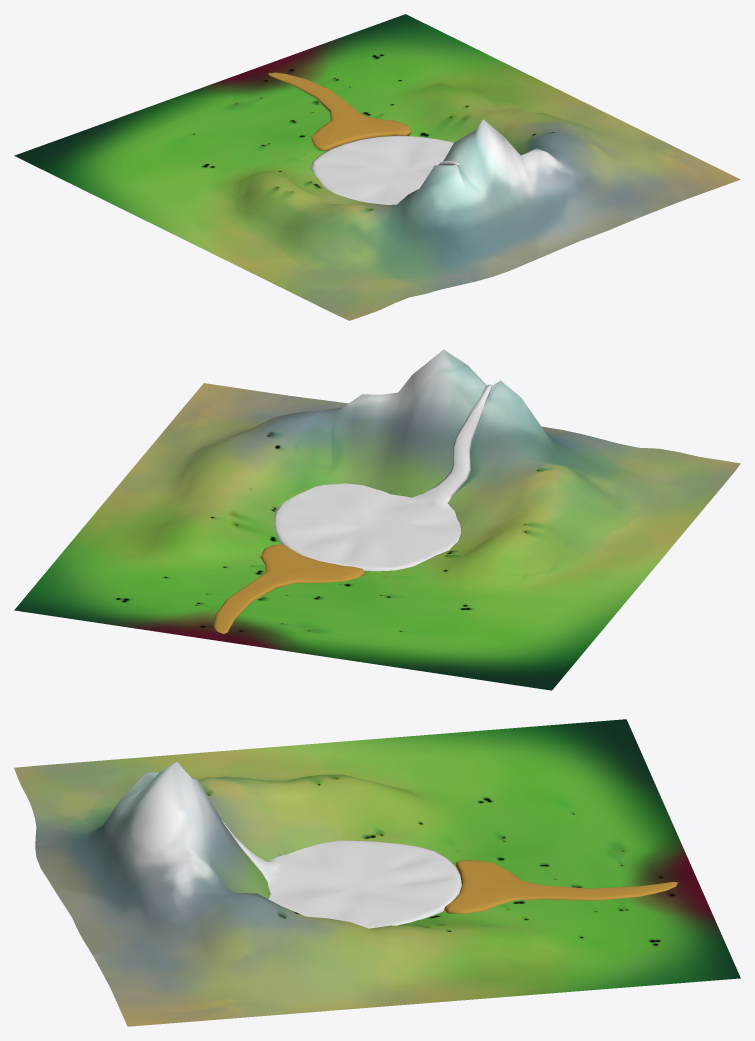
Rendered from mind_scene_V1.fbx.
3 renders of one model, top to bottom at view 1: azimuth 30°, elevation 25°; view 2: azimuth 150°, elevation 25°; view 3: azimuth 270°, elevation 25°, orthographic. The views are drawn at different scales.
Parts seen in each view (by area): view 1: scene, waterfall-lake, floor; view 2: scene, waterfall-lake, floor; view 3: scene, waterfall-lake, floor.
Part boxes in pixels (box(x1,y1,x2,y2)): scene: box(14, 14, 740, 320); waterfall-lake: box(311, 135, 459, 204); floor: box(268, 72, 411, 151); scene: box(14, 349, 740, 690); waterfall-lake: box(274, 384, 492, 571); floor: box(214, 544, 364, 633); scene: box(14, 719, 740, 1026); waterfall-lake: box(222, 820, 461, 928); floor: box(443, 860, 677, 913).
Bounding box in the file's own units: 13700 × 3324 × 13685.
